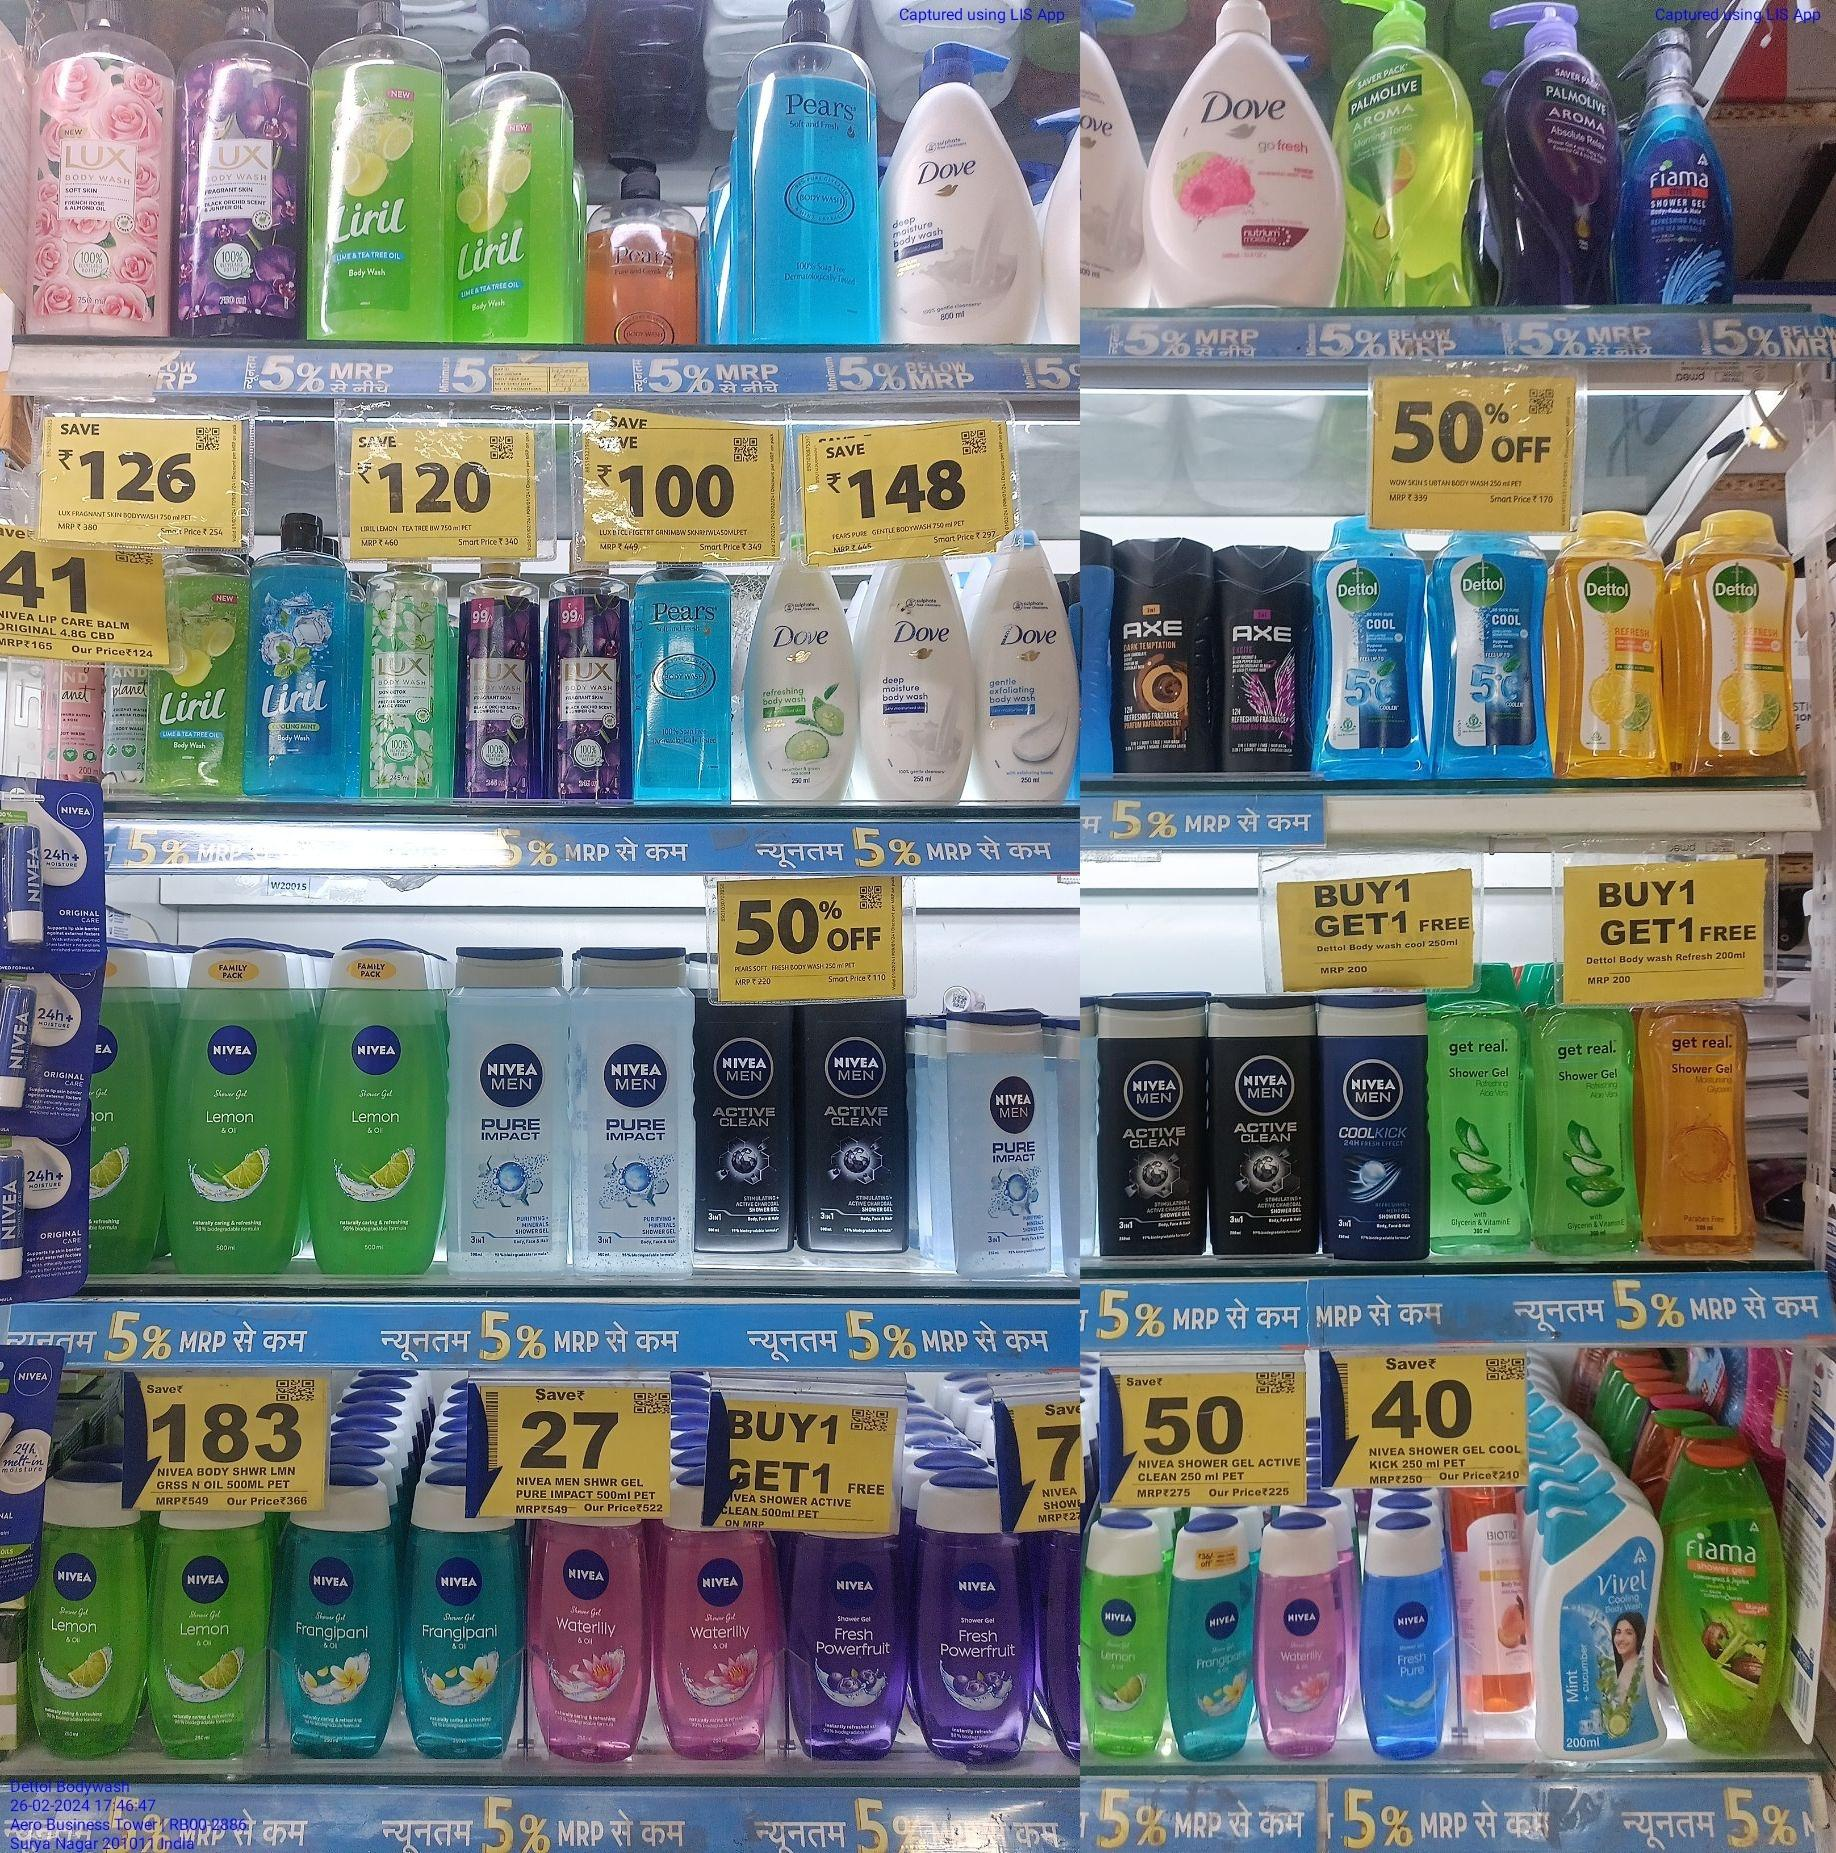Dettol_Bodywash_Cool: (1434, 523, 1550, 780), (1313, 515, 1421, 782)
Dettol_Bodywash_Refresh: (1690, 504, 1801, 787), (1560, 509, 1668, 780)
Dove_Deep_Moisture_Body_Wash_250ML: (869, 557, 970, 804)
Dove_Gentle_Exfoliating_Body_Wash_250ML: (982, 528, 1076, 807)
Dove_Refreshing_Body_Wash_250ML: (748, 531, 856, 804)
Fiama_Shower_Gel_Lemongrass_and_Jojoba_250ML: (1666, 1438, 1782, 1761)
Get_Real_Shower_Gel_Moisturising_Glycerin_300ML: (1648, 999, 1749, 1261)
Lux_Black_Orchid_Scent_and_Juniper_Oil_Body_Wash_245ML: (548, 545, 634, 809), (461, 553, 540, 809)
Lux_Body_Wash_Skin_Detox_Freesia_Scent_and_Alove_Vera_245ML: (363, 553, 447, 804)
Nivea_Shower_Gel_Frangipani_and_Oil_250ML: (276, 1483, 393, 1767), (404, 1473, 518, 1759)
Nivea_Shower_Gel_Fresh_Powerfruit_250ML: (920, 1475, 1031, 1766), (800, 1522, 908, 1767)
Nivea_Shower_Gel_Lemon_and_Oil_250ML: (311, 926, 442, 1278), (170, 940, 293, 1281), (32, 1466, 145, 1772), (148, 1510, 264, 1759)
Nivea_Shower_Gel_Waterlily_and_Oil_250ML: (659, 1480, 763, 1761), (531, 1505, 641, 1764)
Pears_Pure_Glycerin_and_Mint_Extracts_Body_Wash_250ML: (639, 553, 735, 809)
